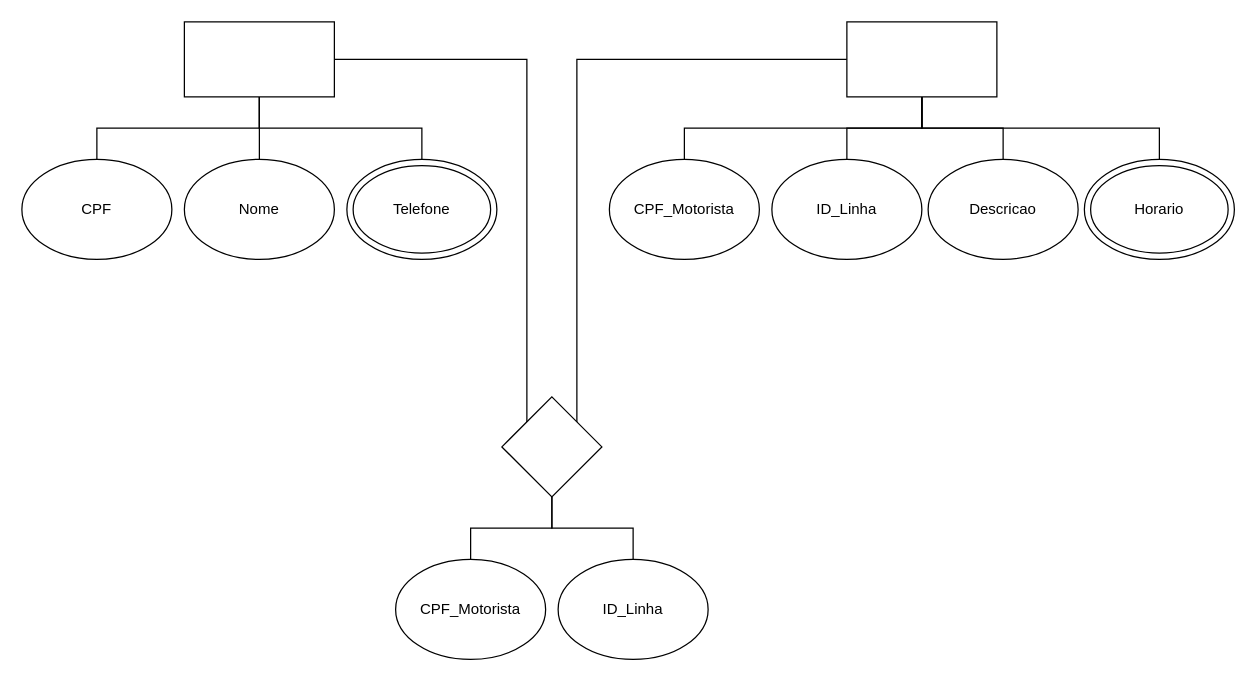
Some shapes in this 1256 by 681 pixel diagram are drawn without their labels. Here are the shapes that lost their labels. From the top down, the centre of each, then its label:
the point at 258,59: Motorista
the point at 921,59: Linha
the point at 551,446: Dirige
